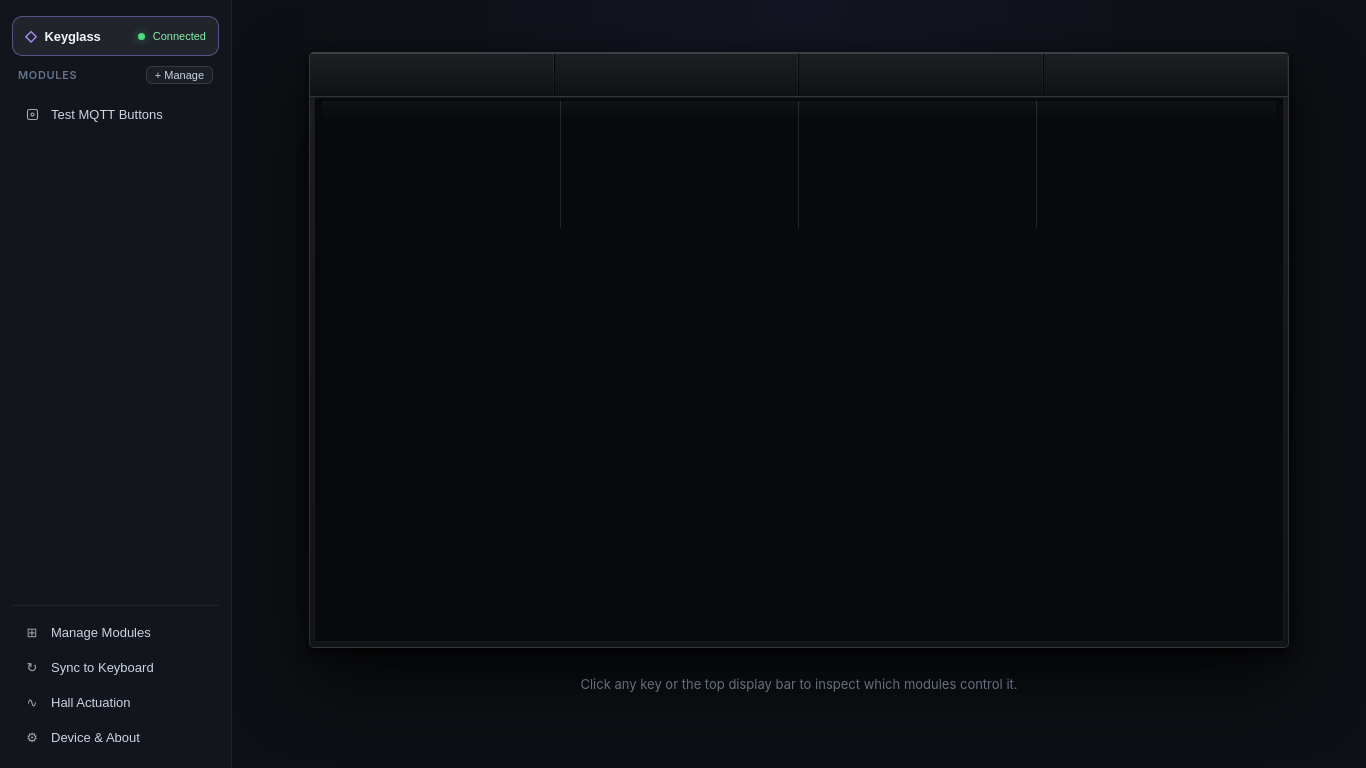
Test: adds, reorders and removes rows
Later steps or results of the test are not shown.
Click the button "Test MQTT Buttons": (116, 114) [12, 98, 219, 131]
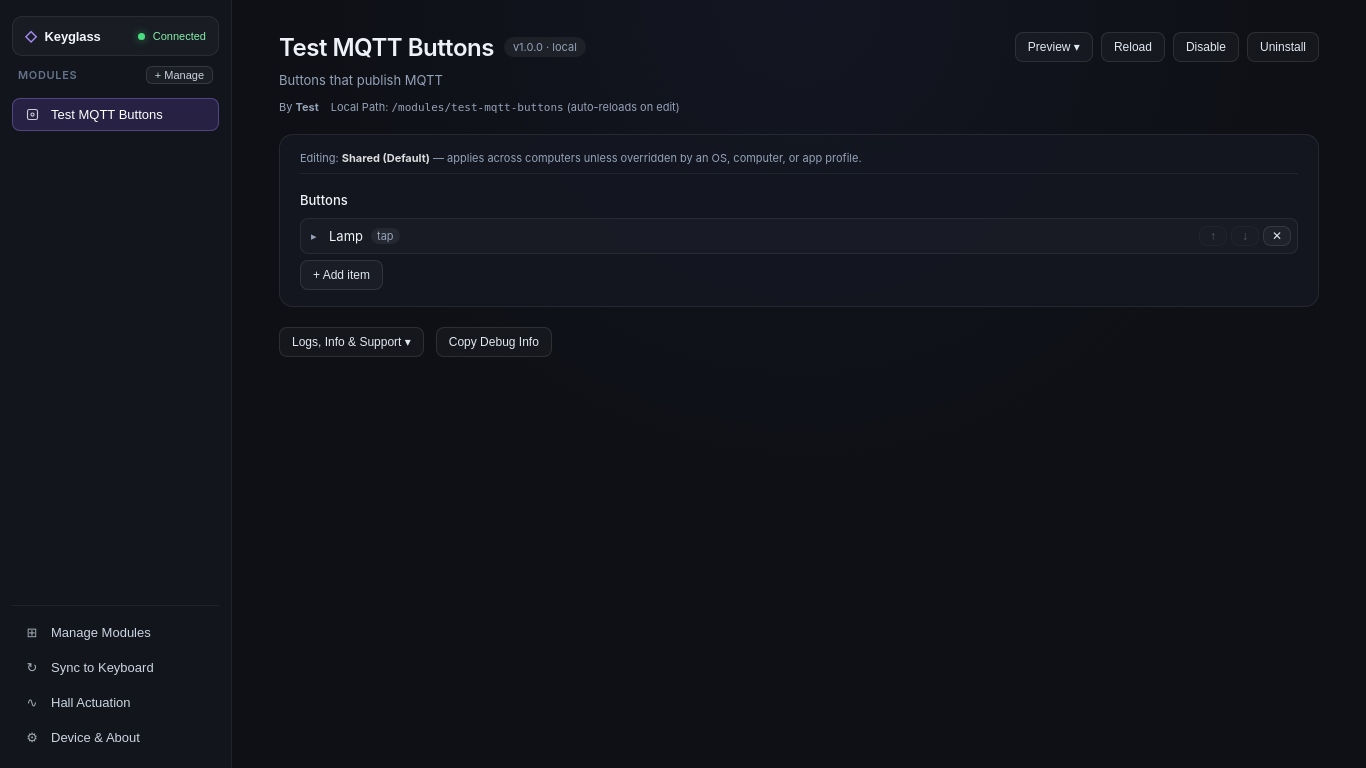
Now the button "▸ Lamp tap" is shown, box [305, 223, 1193, 249]
